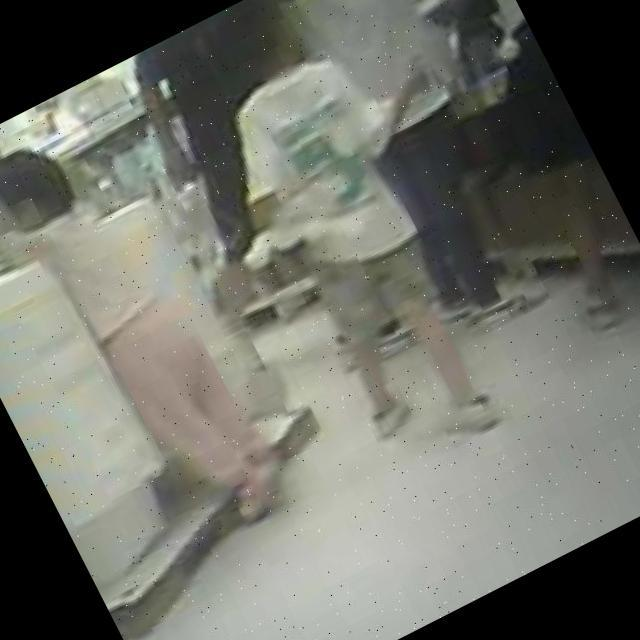person: (184, 0, 594, 481), (0, 101, 311, 569), (115, 0, 433, 344), (277, 0, 563, 351), (373, 0, 640, 336)
